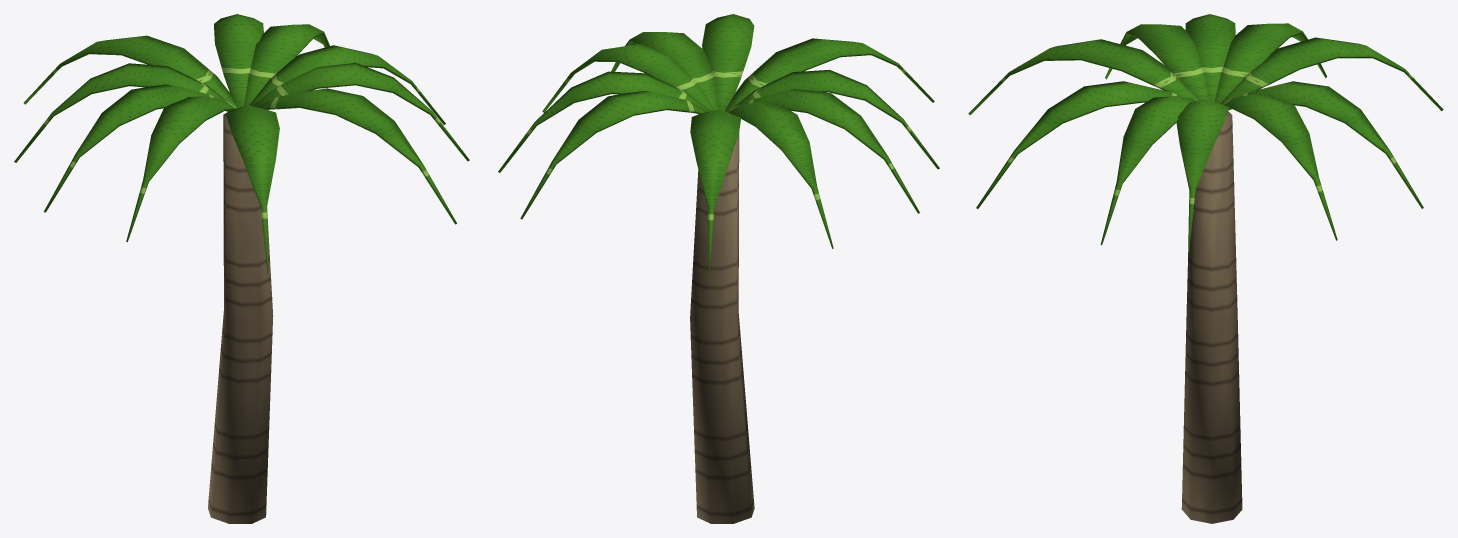
The model's file is kp_small_palm.fbx.
The picture shows the model from 3 angles, left to right: view 1: azimuth 30°, elevation 25°; view 2: azimuth 150°, elevation 25°; view 3: azimuth 270°, elevation 25°; orthographic projection.
Parts seen in each view (by area): view 1: Asset_SmallPalm; view 2: Asset_SmallPalm; view 3: Asset_SmallPalm.
Part boxes in pixels (x1,y1,x2,y2): Asset_SmallPalm: (14, 14, 469, 523); Asset_SmallPalm: (498, 14, 939, 523); Asset_SmallPalm: (968, 14, 1443, 523).
Bounding box in the file's own units: 6.75 × 7.34 × 7.05.
1 material, 1 textured.
